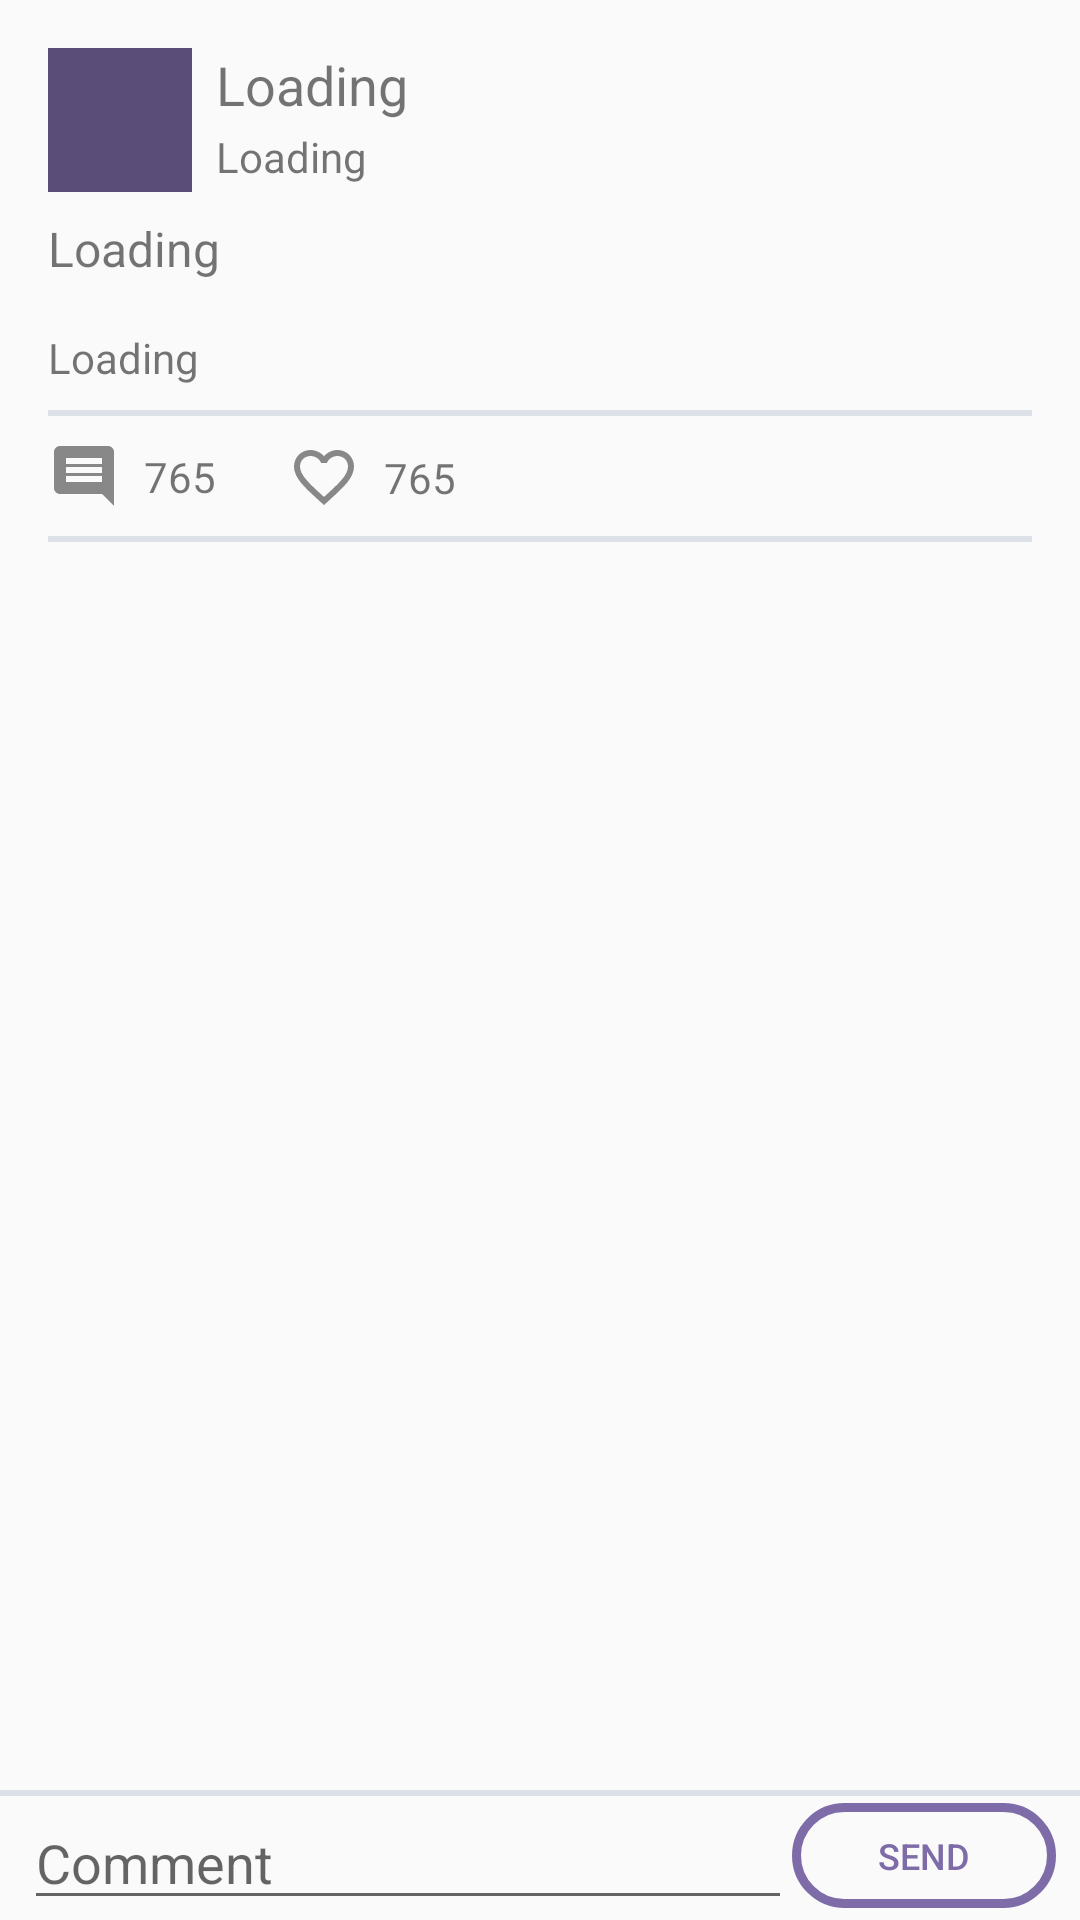

Icons on this 1080×1920 Android screen, each with the point to tap as (x,y):
favorite border: (324,477)
insert comment: (84,476)
